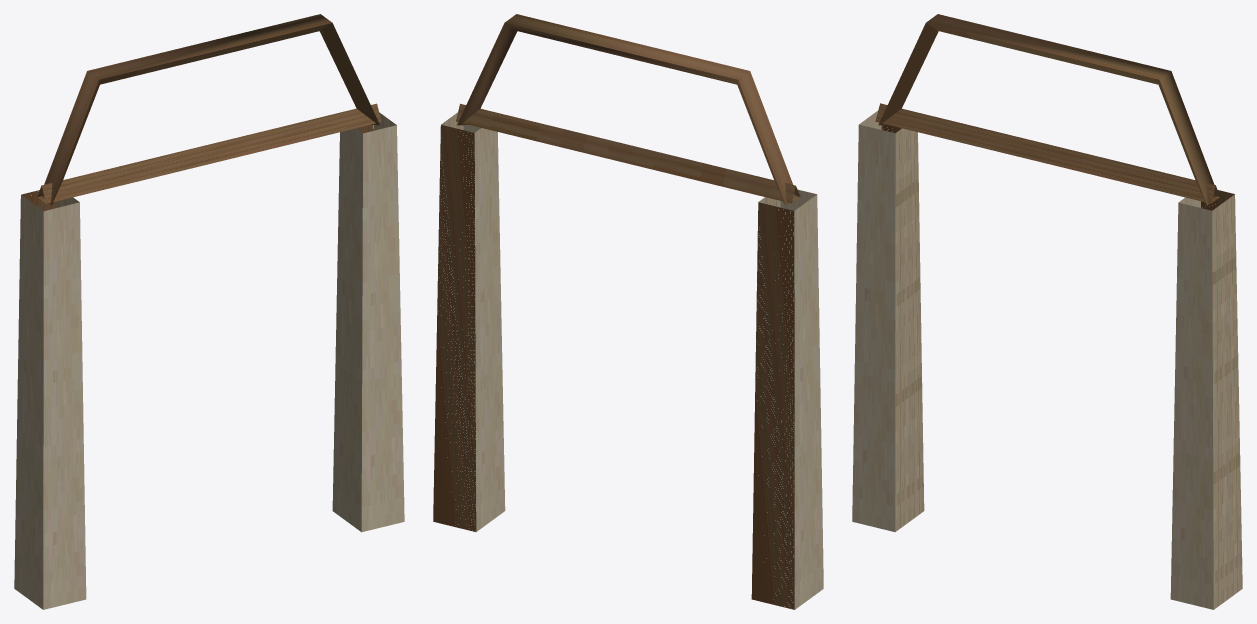
File: thm_nboo_imprv_arbor_pillar_s01_l3.fbx
3 renders of one model, left to right at view 1: azimuth 30°, elevation 25°; view 2: azimuth 150°, elevation 25°; view 3: azimuth 330°, elevation 25°, orthographic.
Parts seen in each view (by area): view 1: mesh_node; view 2: mesh_node; view 3: mesh_node.
Boxes of the visible parts, <box> form: mesh_node: <box>14,14,404,609</box>; mesh_node: <box>433,14,823,609</box>; mesh_node: <box>852,14,1242,609</box>.
Bounding box in the file's own units: 3.97 × 5.33 × 0.5511.
